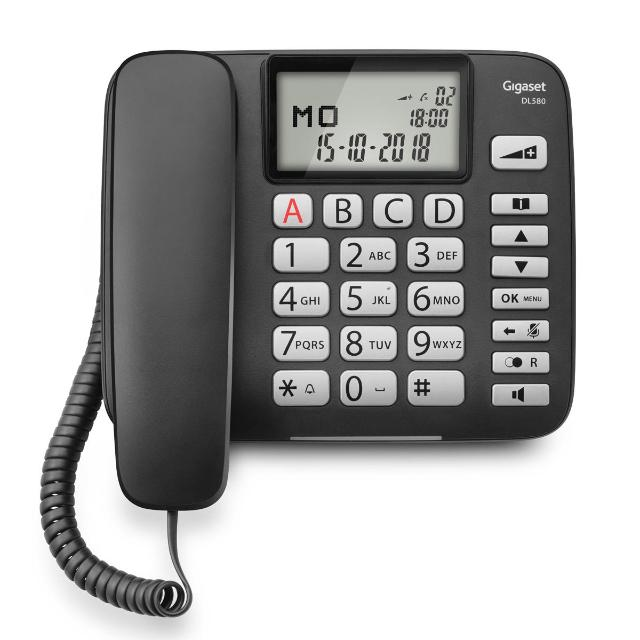Telephone-Set: (34, 41, 640, 620)
